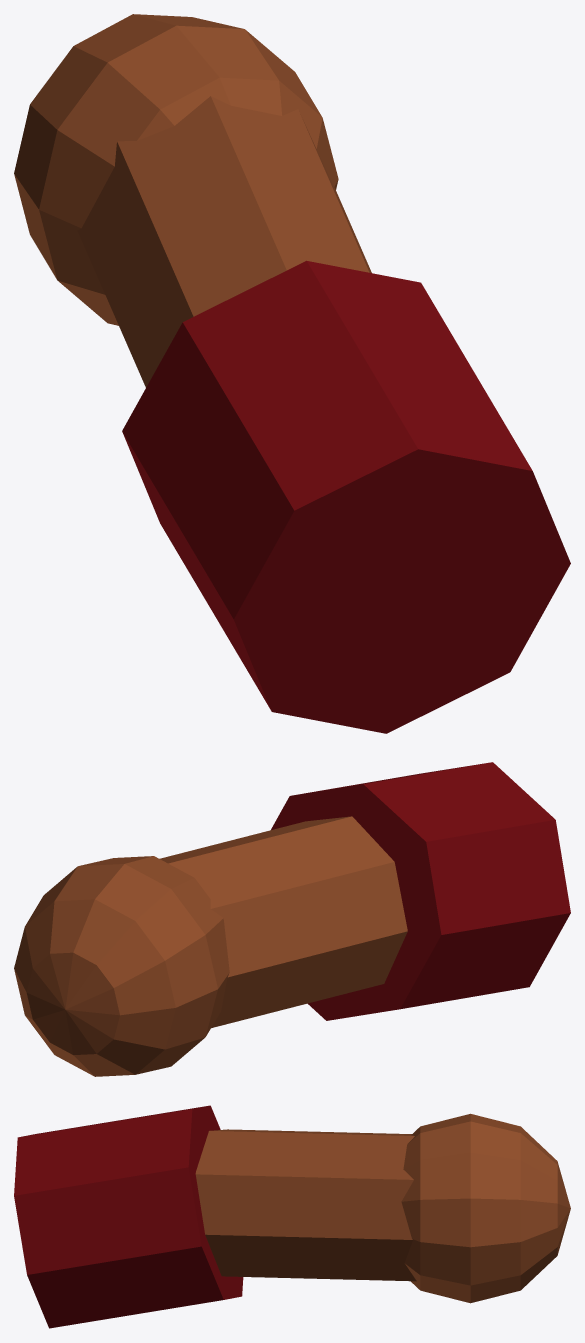
The model's file is Resident7LeftArm.obj.
The picture shows the model from 3 angles, top to bottom: view 1: azimuth 30°, elevation 25°; view 2: azimuth 150°, elevation 25°; view 3: azimuth 270°, elevation 25°; orthographic projection. The views are drawn at different scales.
Parts seen in each view (by area): view 1: Resident7LeftArm; view 2: Resident7LeftArm; view 3: Resident7LeftArm.
Part boxes in pixels (x1=…): Resident7LeftArm: x1=14, y1=14, x2=570, y2=733; Resident7LeftArm: x1=14, y1=762, x2=570, y2=1076; Resident7LeftArm: x1=14, y1=1105, x2=570, y2=1328.
Bounding box in the file's own units: 33.37 × 30.65 × 63.77.
